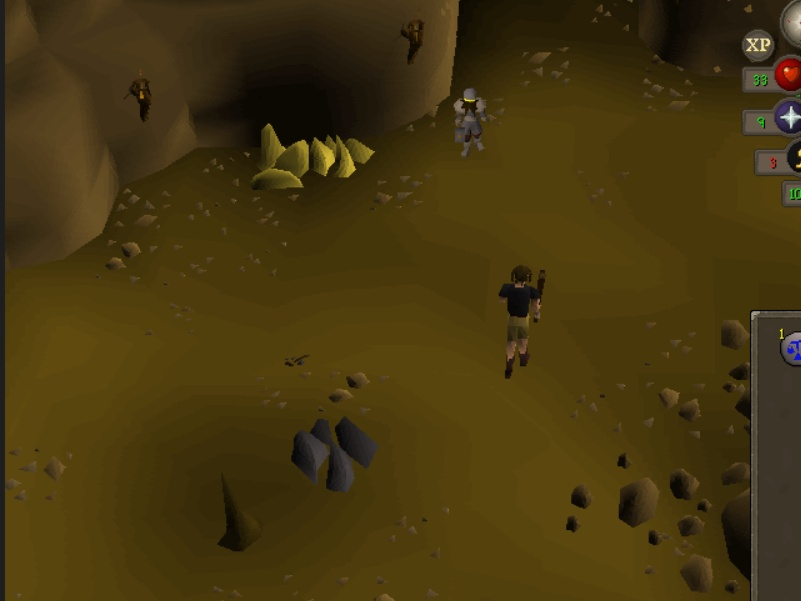gold: (245, 111, 313, 195), (310, 125, 377, 179)
